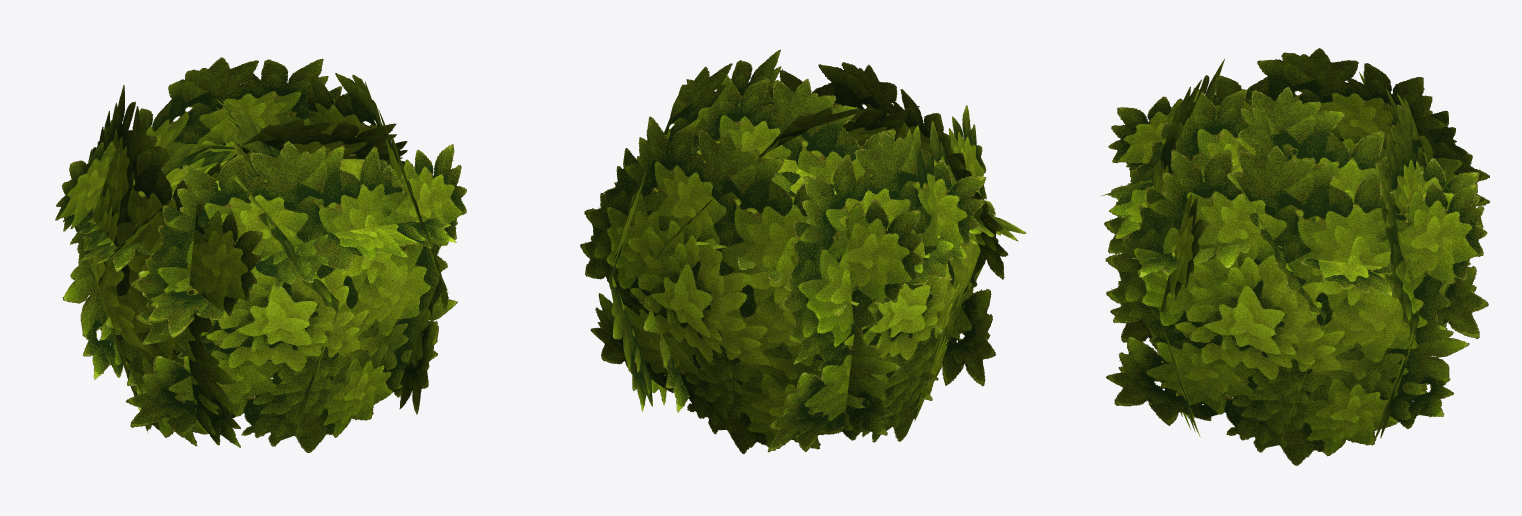
The model's file is shrub-jungle-leafy-1a.fbx.
3 views of the same model, side by side, from view 1: azimuth 30°, elevation 25°; view 2: azimuth 150°, elevation 25°; view 3: azimuth 270°, elevation 25° (orthographic).
Visible parts, largest first — view 1: Plane.009_Plane.001; view 2: Plane.009_Plane.001; view 3: Plane.009_Plane.001.
Boxes of the visible parts, left/top/right/bottom form: Plane.009_Plane.001: left=55, top=57, right=466, bottom=452; Plane.009_Plane.001: left=580, top=49, right=1026, bottom=453; Plane.009_Plane.001: left=1101, top=48, right=1489, bottom=465.
Size of the model in its own units: 464 by 420 by 488.
Materials: 1 (1 with a texture image).
